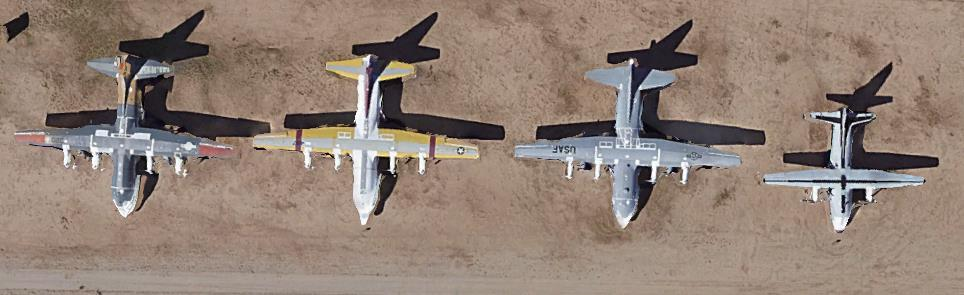C-130: (248, 45, 483, 229), (512, 50, 747, 229), (14, 47, 238, 220)
plane: (760, 102, 927, 235)
